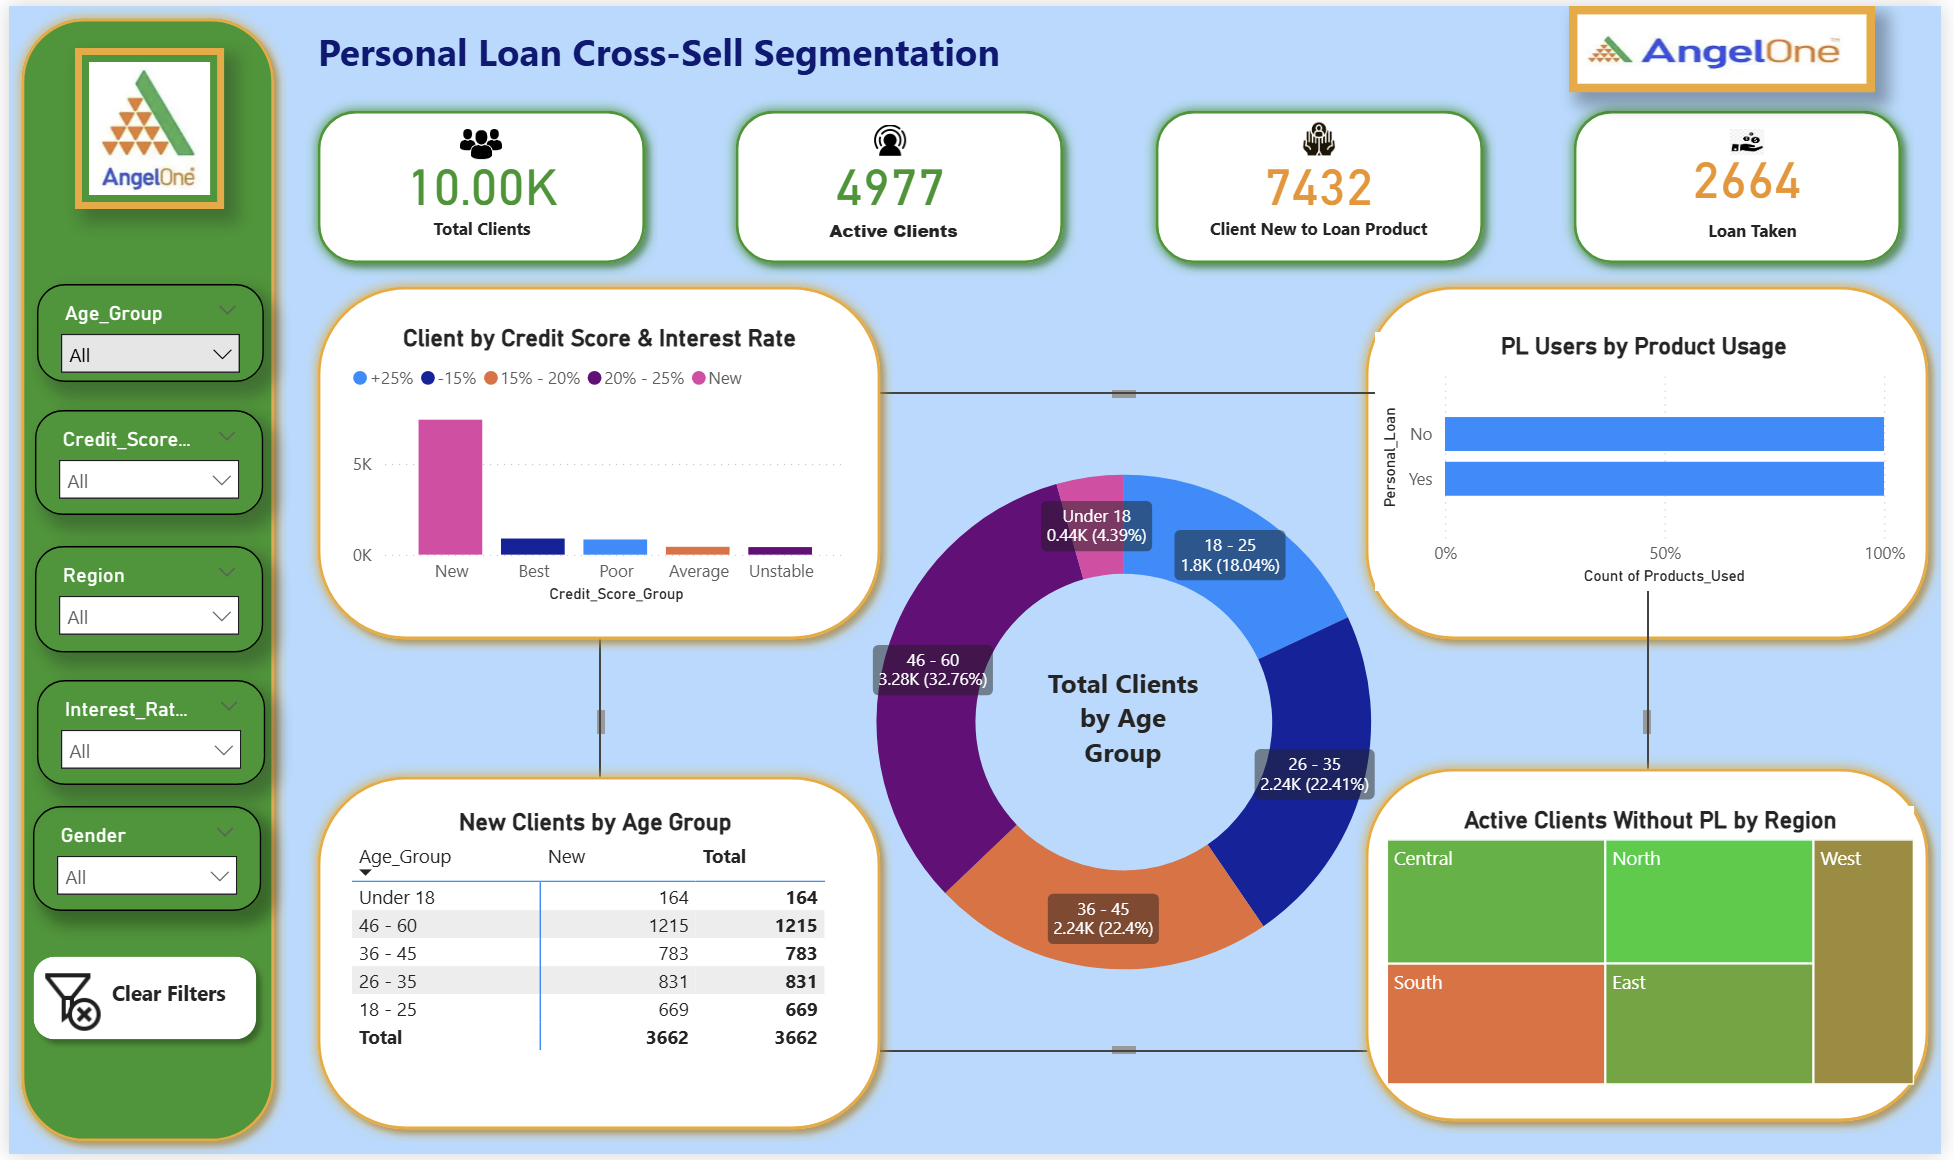

Layout of this report page (visuals, bound fields, positions):
{"tool":"powerbi","page":{"name":"Page 2","canvas":[1380,820],"ordinal":1},"visuals":[{"type":"shape","box":[1108.6,66.4,252,127],"z":0},{"type":"shape","box":[809.5,66.4,252,127],"z":1000},{"type":"shape","box":[510.5,66.4,252,127],"z":2000},{"type":"shape","box":[960,191.7,420,270],"z":3000},{"type":"shape","box":[960,535,420,270],"z":3000,"group":"g4"},{"type":"shape","box":[0,0,198.3,820],"z":4000},{"type":"shape","box":[211.4,66.4,252,127],"z":5000},{"type":"shape","box":[211.7,191.7,420,270],"z":5000,"group":"g2"},{"type":"card","fields":{"Values":["CountNonNull(Sheet1.Age)"]},"box":[252.1,88.6,170,75.7],"z":6000},{"type":"card","fields":{"Values":["Sheet1.Total_No._of_Active_client"]},"box":[551.4,92.9,155.7,66.4],"z":7000},{"type":"card","fields":{"Values":["Sheet1.CLient_New_to_PL"]},"box":[865.3,104.1,139.4,44.7],"z":8000},{"type":"shape","box":[211.7,541.7,420,270],"z":8000,"group":"g3"},{"type":"card","fields":{"Values":["Sheet1.Already_PL_User"]},"box":[1167.9,96.4,145.7,48.6],"z":9000},{"type":"slicer","fields":{"Values":["Sheet1.Age_Group"]},"box":[20,198,162,70],"z":10000},{"type":"slicer","fields":{"Values":["Sheet1.Credit_Score_Group"]},"box":[19,289,163,75],"z":11000},{"type":"slicer","fields":{"Values":["Sheet1.Region"]},"box":[19,386,163,76],"z":12000},{"type":"shape","box":[8,670,177,77],"z":12000,"group":"g1"},{"type":"slicer","fields":{"Values":["Sheet1.Interest_Rate_Category"]},"box":[20,481,163,75],"z":13000},{"type":"image","box":[10,679.3,63.8,57],"z":13000,"group":"g1"},{"type":"donutChart","fields":{"Series":["Sheet1.Age_Group"],"Y":["CountNonNull(Sheet1.Customer_ID)"]},"box":[421.7,275,750,471.7],"z":14000},{"type":"textbox","box":[67.4,689.4,117.9,38.4],"z":14000,"group":"g1"},{"type":"hundredPercentStackedBarChart","title":"PL Users by Product Usage","fields":{"Category":["Sheet1.Personal_Loan"],"Y":["CountNonNull(Sheet1.Products_Used)"]},"box":[976.1,233,384.1,185.2],"z":15000},{"type":"columnChart","title":"Client by Credit Score & Interest Rate","fields":{"Y":["CountNonNull(Sheet1.Customer_ID)"],"Category":["Sheet1.Credit_Score_Group"],"Series":["Sheet1.Interest_Rate_Category"]},"box":[239.6,227.1,363.8,203.8],"z":16000,"group":"g2"},{"type":"group","id":"g1","title":"Group 1","box":[8,670,177.3,77],"z":16000},{"type":"slicer","fields":{"Values":["Sheet1.Gender"]},"box":[17,571,163,75],"z":17000},{"type":"image","box":[1114.3,0,218.6,61.4],"z":18000},{"type":"image","box":[46.7,30,106.7,115],"z":19000},{"type":"group","id":"g2","title":"Group 3","box":[211.7,191.7,420,270],"z":20000},{"type":"pivotTable","title":"New Clients by Age Group","fields":{"Columns":["Sheet1.Credit_Score_Group"],"Values":["Sheet1.No._Of_active_&_PL_Client"],"Rows":["Sheet1.Age_Group"]},"box":[239.6,573.4,357.5,206.2],"z":20000,"group":"g3"},{"type":"group","id":"g3","title":"Group 2","box":[211.7,541.7,420,270],"z":21000},{"type":"treemap","title":"Active Clients Without PL by Region","fields":{"Group":["Sheet1.Region"],"Values":["Sheet1.No._Of_active_&_PL_Client"]},"box":[983.8,571.2,376.2,198.8],"z":21000,"group":"g4"},{"type":"group","id":"g4","title":"Group 5","box":[960,535,420,270],"z":22000},{"type":"textbox","box":[215,8.3,536.7,53.3],"z":23000},{"type":"image","box":[612.9,80,32.9,32.1],"z":24000},{"type":"textbox","box":[567.3,146.4,129.1,28.2],"z":25000},{"type":"textbox","box":[292.1,144.3,90,29.3],"z":26000},{"type":"image","box":[1223.6,82.1,34.3,28.6],"z":27000},{"type":"textbox","box":[1197.3,145.5,96.4,28.2],"z":28000},{"type":"image","box":[317.1,82.1,40,31.4],"z":29000},{"type":"image","box":[916.5,77.1,37.6,35.3],"z":30000},{"type":"textbox","box":[834.1,144.1,202.4,28.2],"z":31000},{"type":"textbox","box":[736.2,466.2,120,90],"z":32000}]}

Visuals, with their boxes in screenshot pixels (x1, y1, x2, y2), scaled from the page's 1380x820 canvas onto the 1954x1160 screenshot:
shape: [1570, 94, 1927, 274]
shape: [1146, 94, 1503, 274]
shape: [723, 94, 1080, 274]
shape: [1359, 271, 1953, 653]
shape: [1359, 757, 1953, 1139]
shape: [0, 0, 281, 1159]
shape: [299, 94, 656, 274]
shape: [300, 271, 894, 653]
card - CountNonNull(Sheet1.Age): [357, 125, 598, 232]
card - Sheet1.Total_No._of_Active_client: [781, 131, 1001, 225]
card - Sheet1.CLient_New_to_PL: [1225, 147, 1423, 210]
shape: [300, 766, 894, 1148]
card - Sheet1.Already_PL_User: [1654, 136, 1860, 205]
slicer - Sheet1.Age_Group: [28, 280, 258, 379]
slicer - Sheet1.Credit_Score_Group: [27, 409, 258, 515]
slicer - Sheet1.Region: [27, 546, 258, 654]
shape: [11, 948, 262, 1057]
slicer - Sheet1.Interest_Rate_Category: [28, 680, 259, 787]
image: [14, 961, 104, 1042]
donutChart - Sheet1.Age_Group x CountNonNull(Sheet1.Customer_ID): [597, 389, 1659, 1056]
textbox: [95, 975, 262, 1030]
"PL Users by Product Usage" hundredPercentStackedBarChart: [1382, 330, 1926, 592]
"Client by Credit Score & Interest Rate" columnChart: [339, 321, 854, 610]
"Group 1" group: [11, 948, 262, 1057]
slicer - Sheet1.Gender: [24, 808, 255, 914]
image: [1578, 0, 1887, 87]
image: [66, 42, 217, 205]
"Group 3" group: [300, 271, 894, 653]
"New Clients by Age Group" pivotTable: [339, 811, 845, 1103]
"Group 2" group: [300, 766, 894, 1148]
"Active Clients Without PL by Region" treemap: [1393, 808, 1926, 1089]
"Group 5" group: [1359, 757, 1953, 1139]
textbox: [304, 12, 1064, 87]
image: [868, 113, 914, 159]
textbox: [803, 207, 986, 247]
textbox: [414, 204, 541, 246]
image: [1733, 116, 1781, 157]
textbox: [1695, 206, 1832, 246]
image: [449, 116, 506, 161]
image: [1298, 109, 1351, 159]
textbox: [1181, 204, 1468, 244]
textbox: [1042, 660, 1212, 787]
